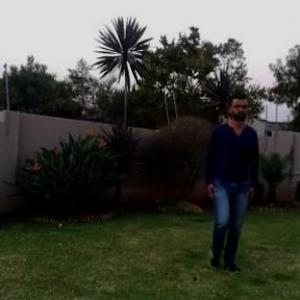follow: (206, 99, 253, 263)
